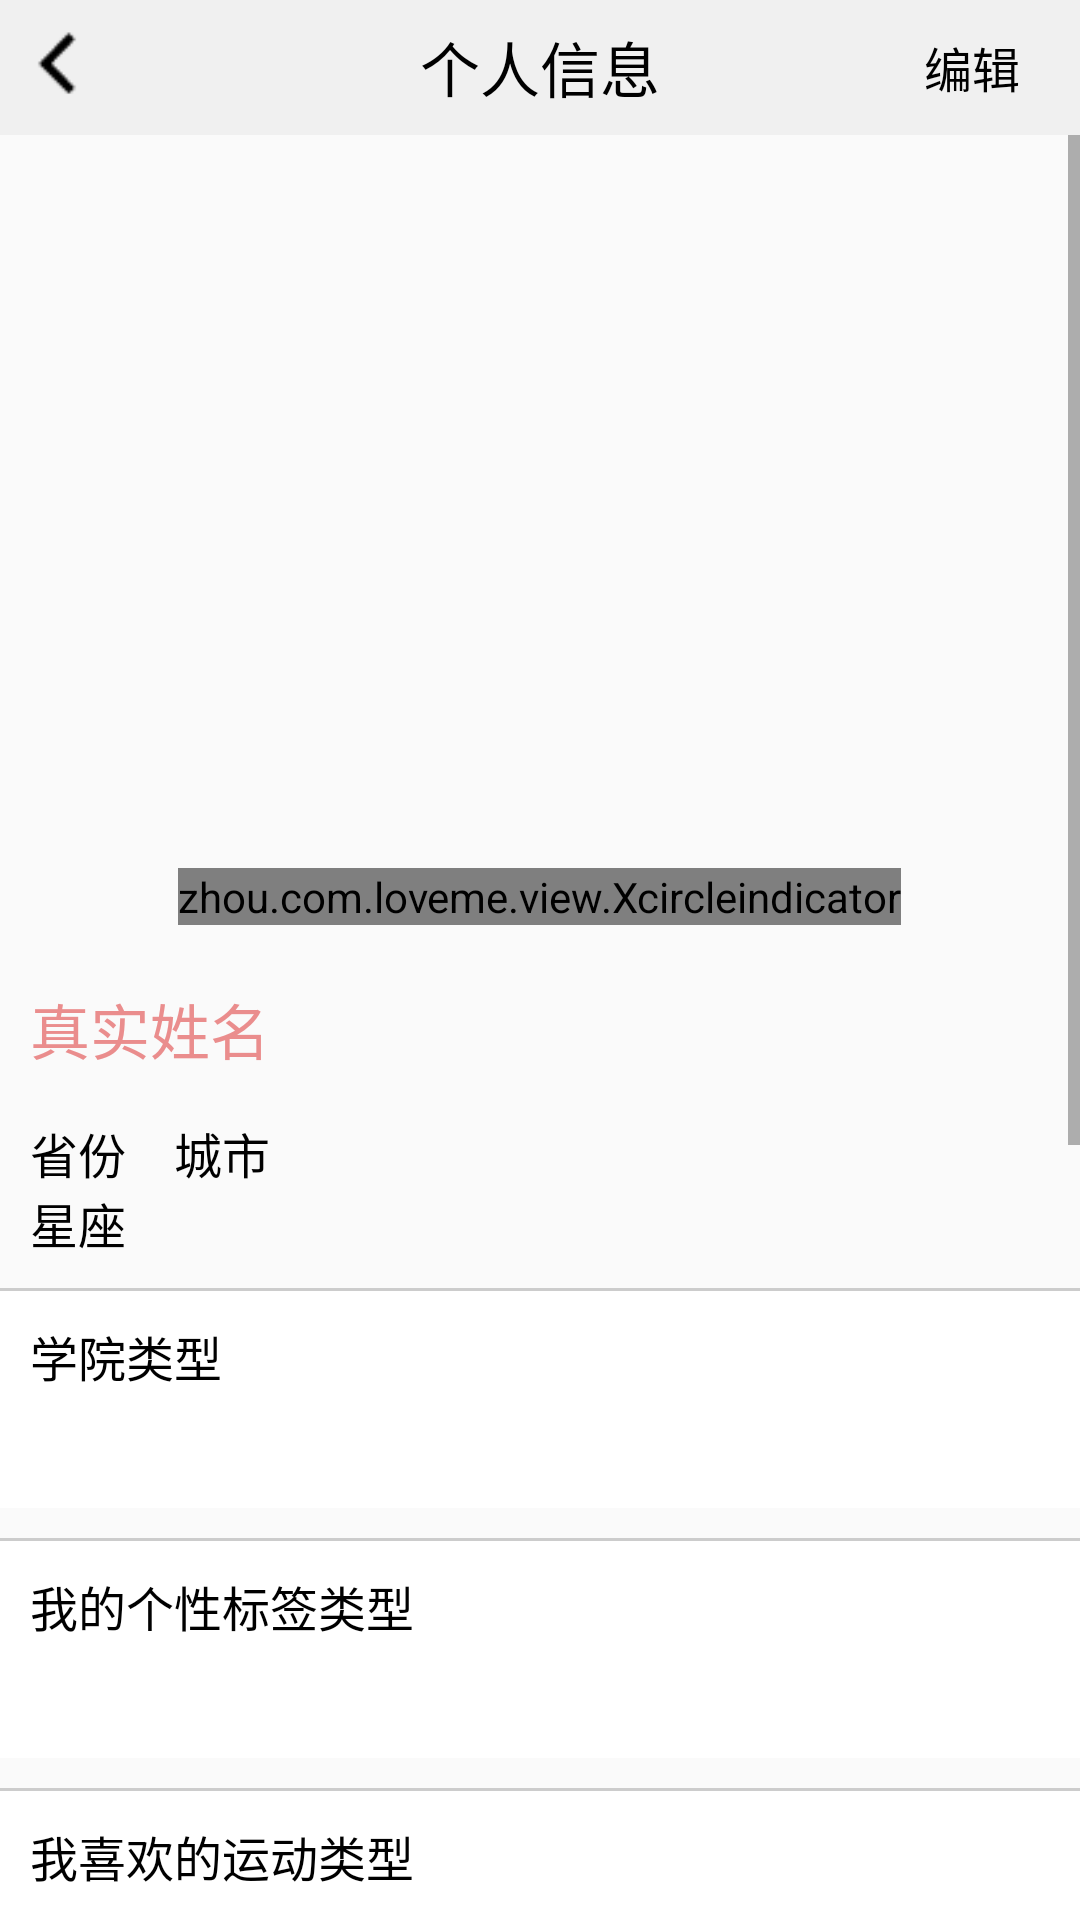

Point at icon controls on the screen. Image size 1080x1920, points as [x,y].
back: [57,63]
